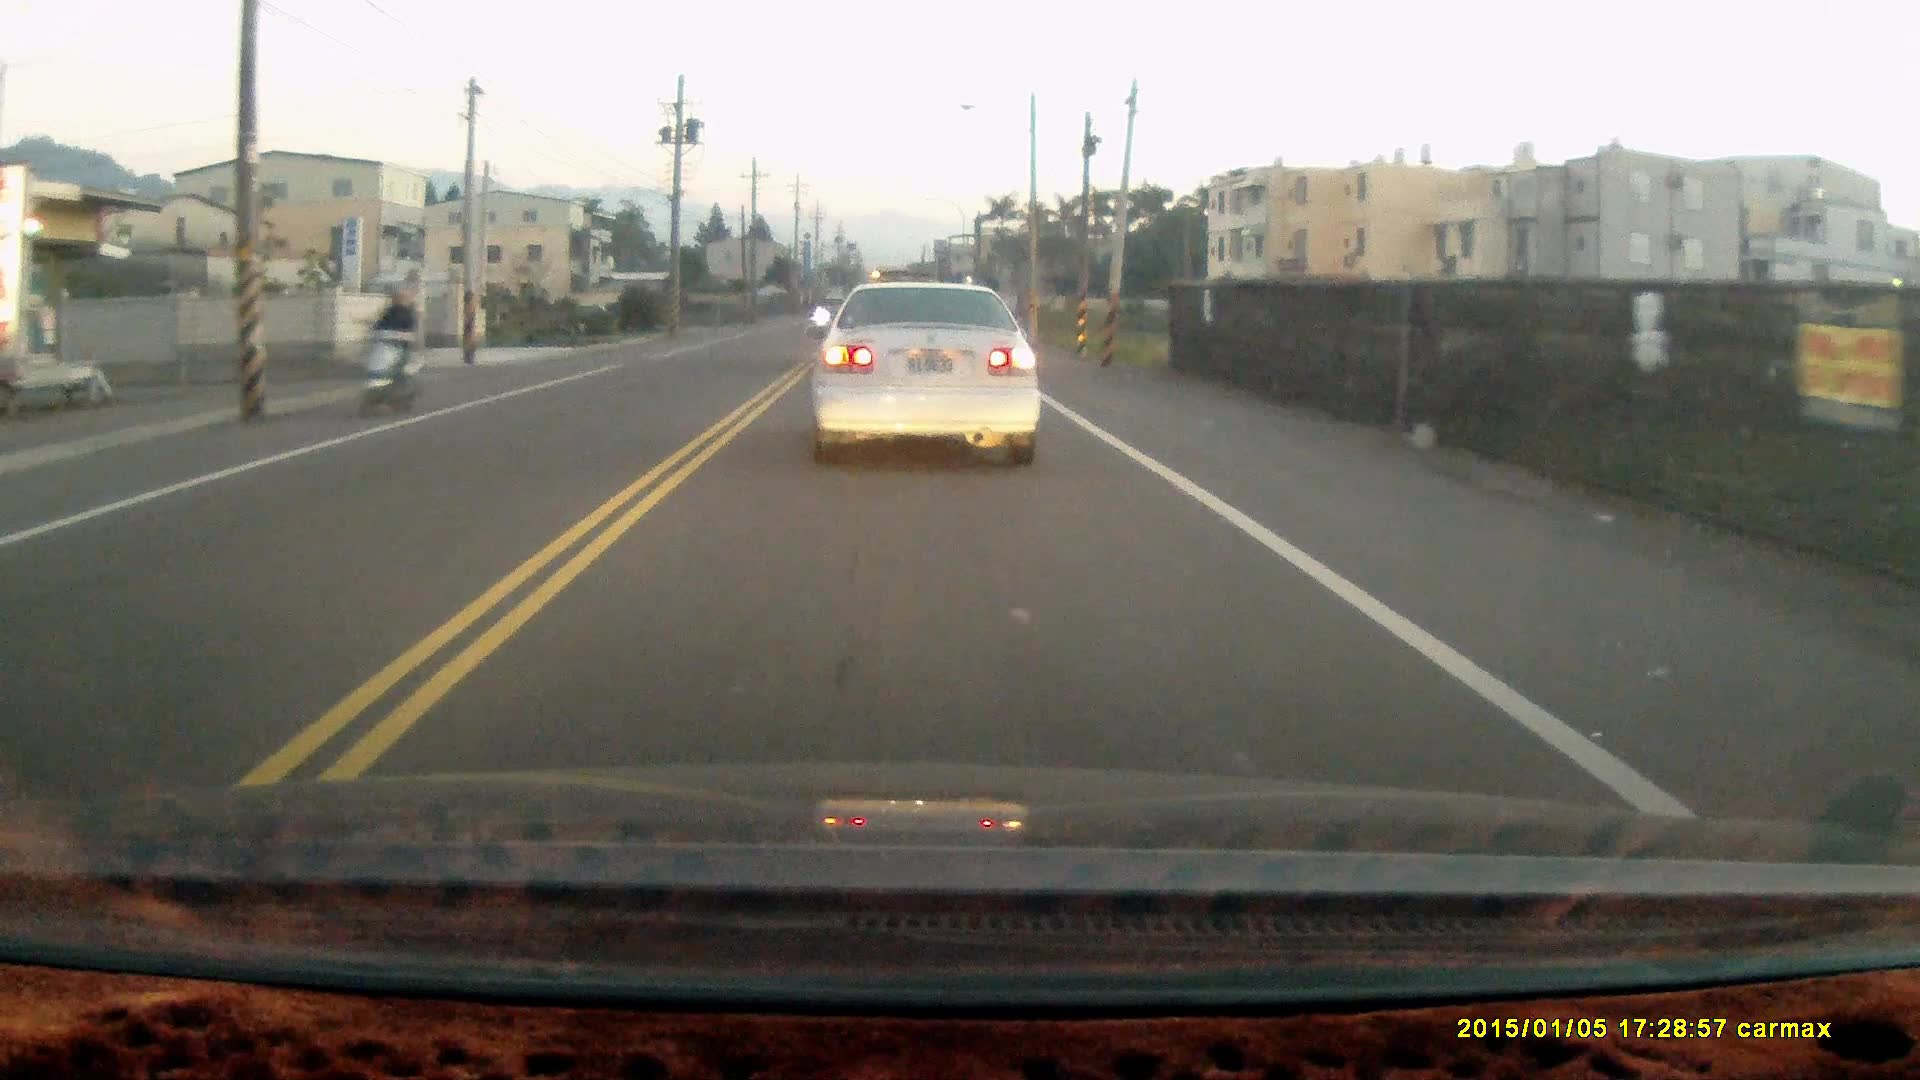rider: (348, 280, 424, 423)
vehicle: (804, 275, 1040, 465)
